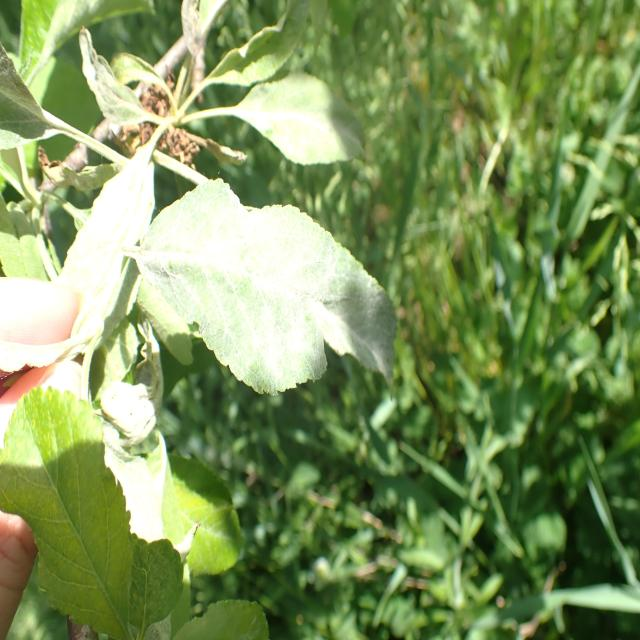Powdery_mildew: (131, 165, 385, 380), (51, 118, 172, 355), (193, 70, 376, 178)
